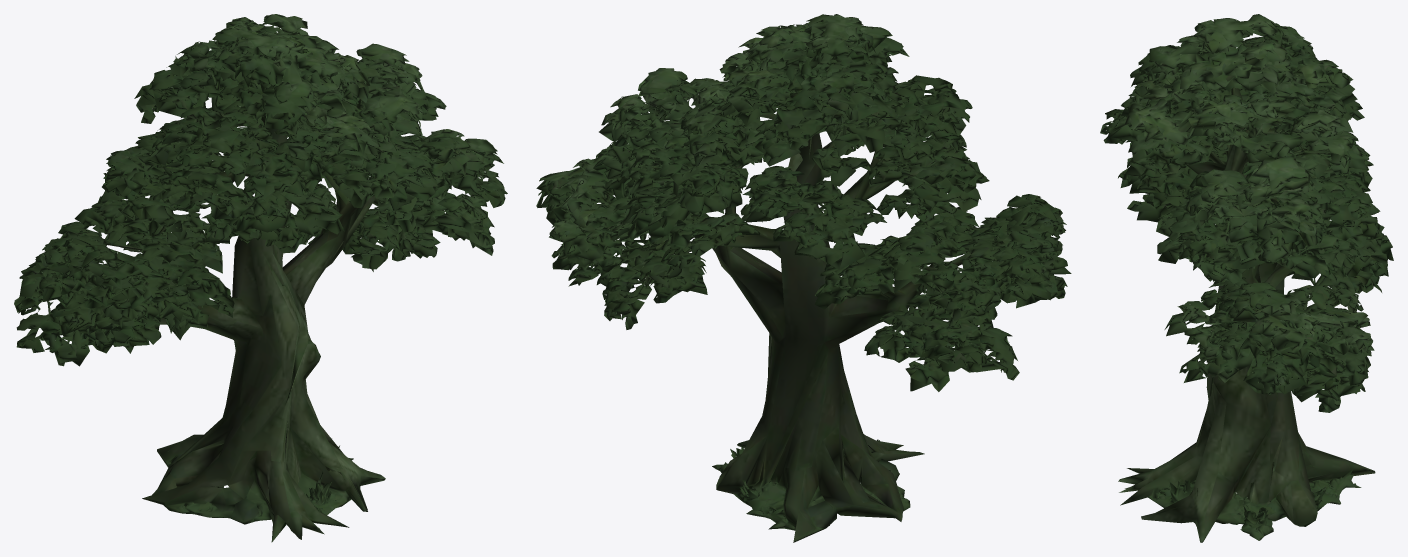
The model's file is bog_oak_02.glb.
The picture shows the model from 3 angles, left to right: view 1: azimuth 30°, elevation 25°; view 2: azimuth 150°, elevation 25°; view 3: azimuth 270°, elevation 25°; orthographic projection.
Visible parts, largest first — view 1: world; view 2: world; view 3: world.
Boxes of the visible parts, x1=… form: world: x1=14, y1=14, x2=507, y2=542; world: x1=536, y1=14, x2=1071, y2=542; world: x1=1100, y1=14, x2=1393, y2=542.
Size of the model in its own units: 0.9901 by 0.8808 by 0.5044.
1 material, 1 textured.
